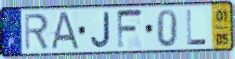0: (155, 8, 180, 48)
A: (48, 11, 82, 51)
F: (116, 7, 145, 51)
J: (89, 11, 112, 50)
L: (186, 9, 209, 47)
R: (23, 11, 50, 52)
